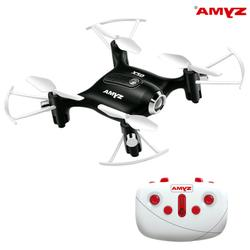drone: (3, 17, 247, 169)
